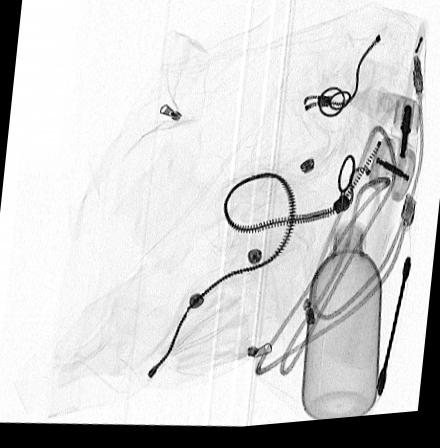Wrench: (374, 263, 412, 404)
